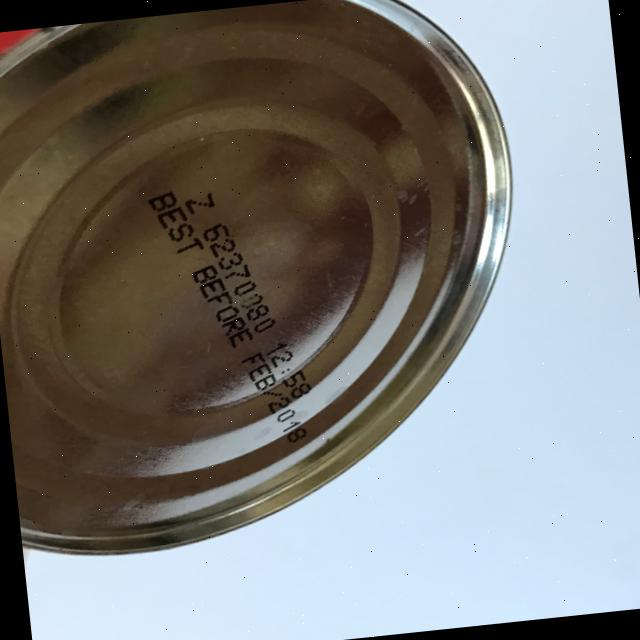metal: (0, 0, 548, 565)
